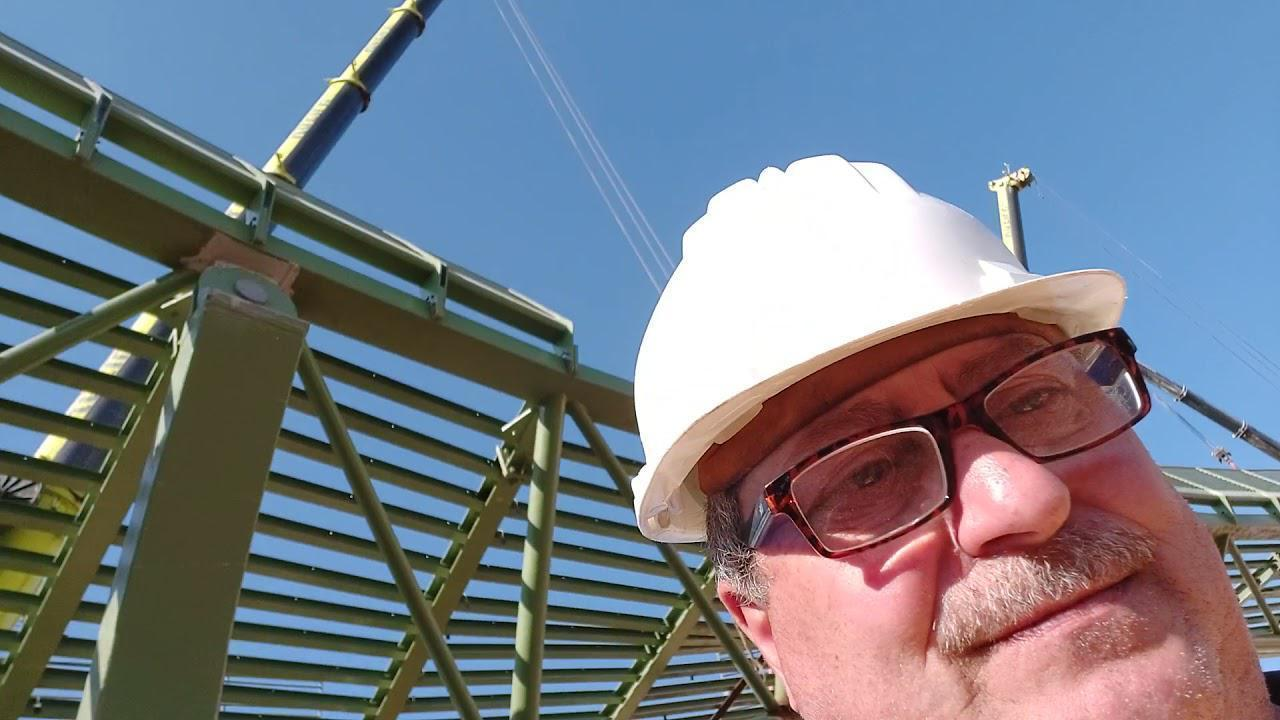helmet: (635, 153, 1126, 557)
